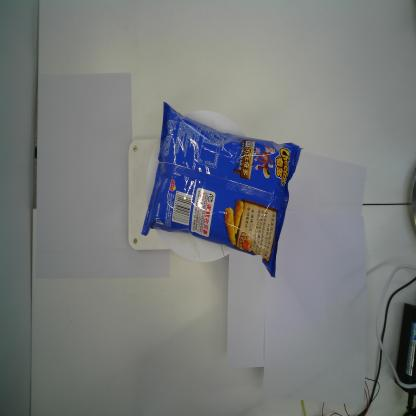Puffed Food: (140, 100, 307, 280)
